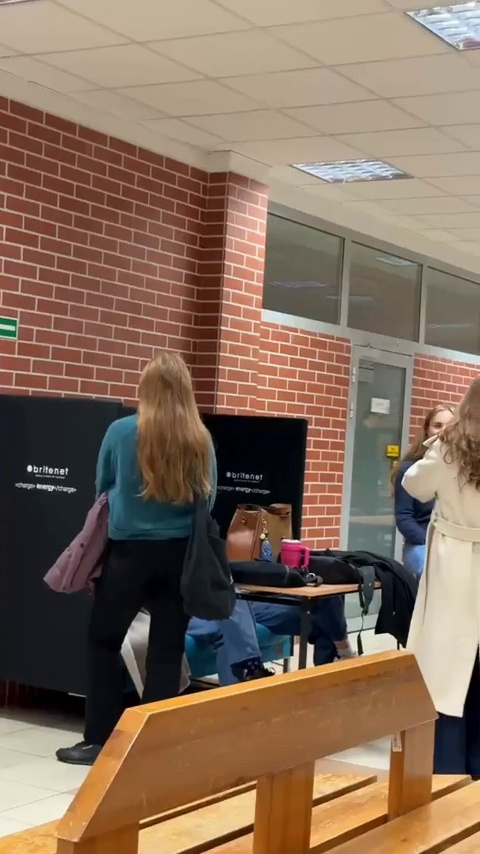no vest: (98, 351, 223, 700), (402, 373, 480, 713)
